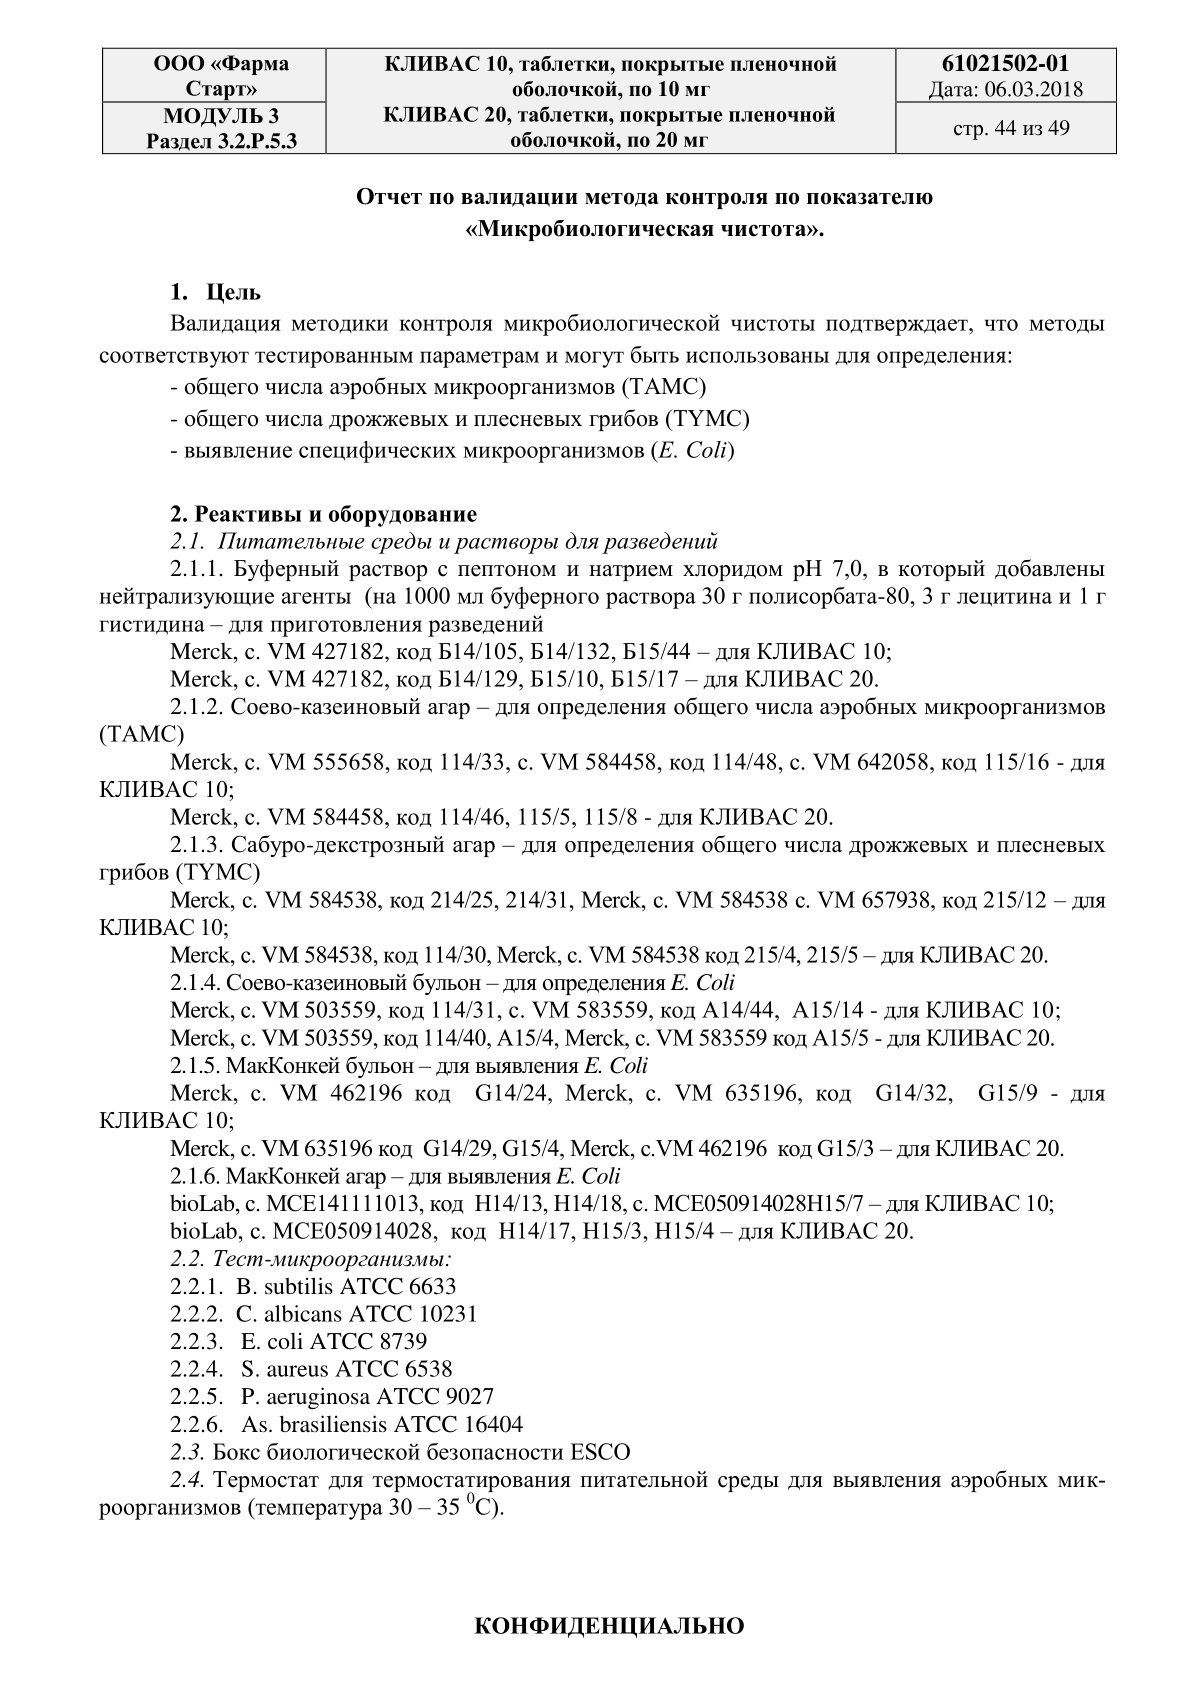merged_cells: (101, 45, 1119, 155)
